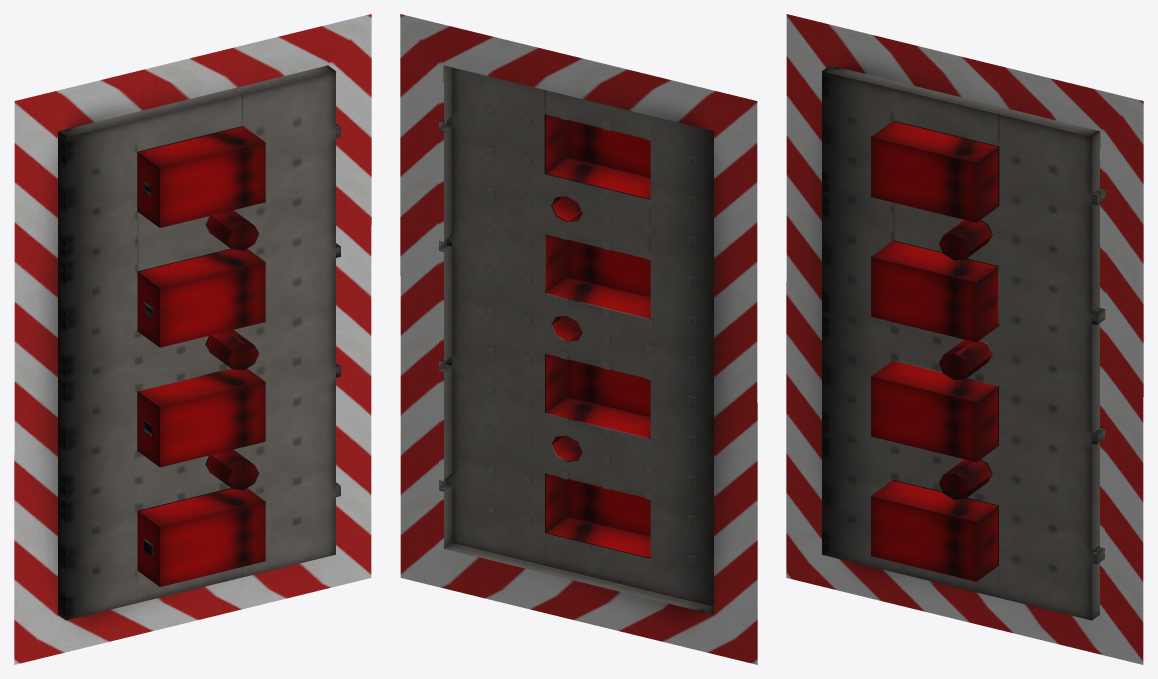
Rendered from plaqueDeFondLat.fbx.
3 renders of one model, left to right at view 1: azimuth 30°, elevation 25°; view 2: azimuth 150°, elevation 25°; view 3: azimuth 330°, elevation 25°, orthographic.
Parts seen in each view (by area): view 1: ShapeIndexedFaceSet; view 2: ShapeIndexedFaceSet; view 3: ShapeIndexedFaceSet.
Part boxes in pixels (box(x1,y1,x2,y2)): ShapeIndexedFaceSet: box(14, 14, 371, 664); ShapeIndexedFaceSet: box(400, 14, 757, 664); ShapeIndexedFaceSet: box(786, 14, 1143, 664).
Bounding box in the file's own units: 5.68 × 8.56 × 0.8414.
